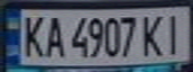0: (103, 14, 121, 58)
4: (66, 13, 87, 60)
7: (118, 12, 139, 59)
9: (84, 14, 106, 58)
A: (42, 12, 69, 59)
I: (160, 10, 190, 56)
K: (18, 11, 48, 58), (139, 11, 169, 57)
